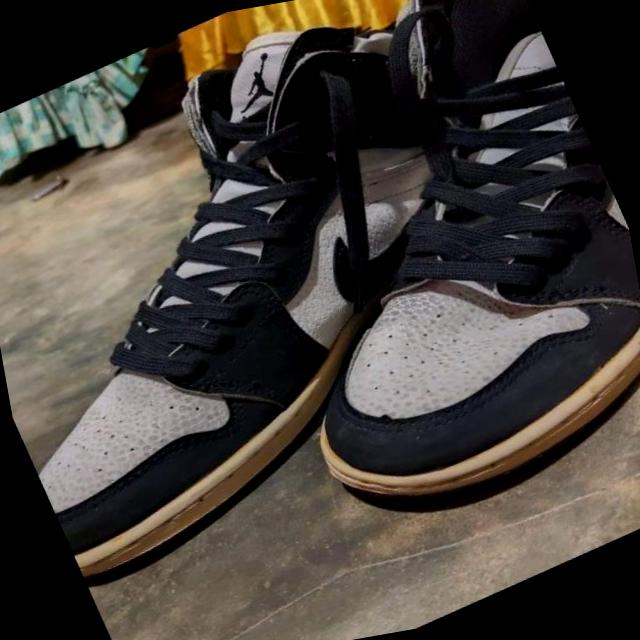nike_fake_jordan: (0, 0, 615, 594), (147, 0, 640, 567)
